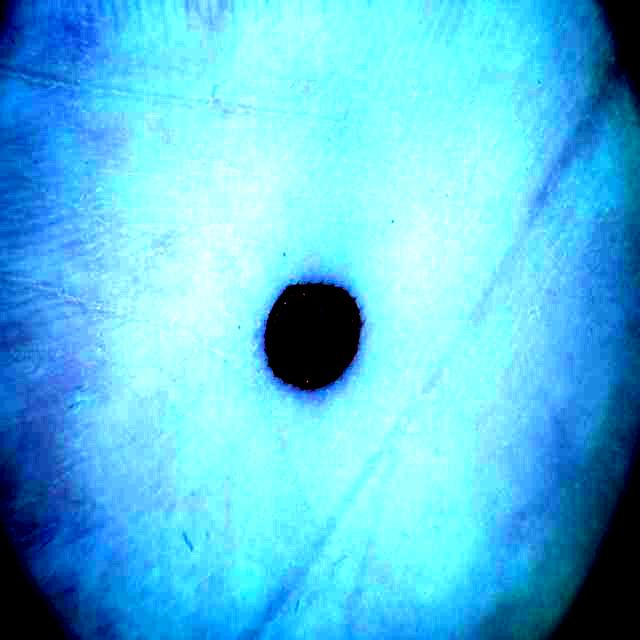VASC: (266, 284, 359, 388)
